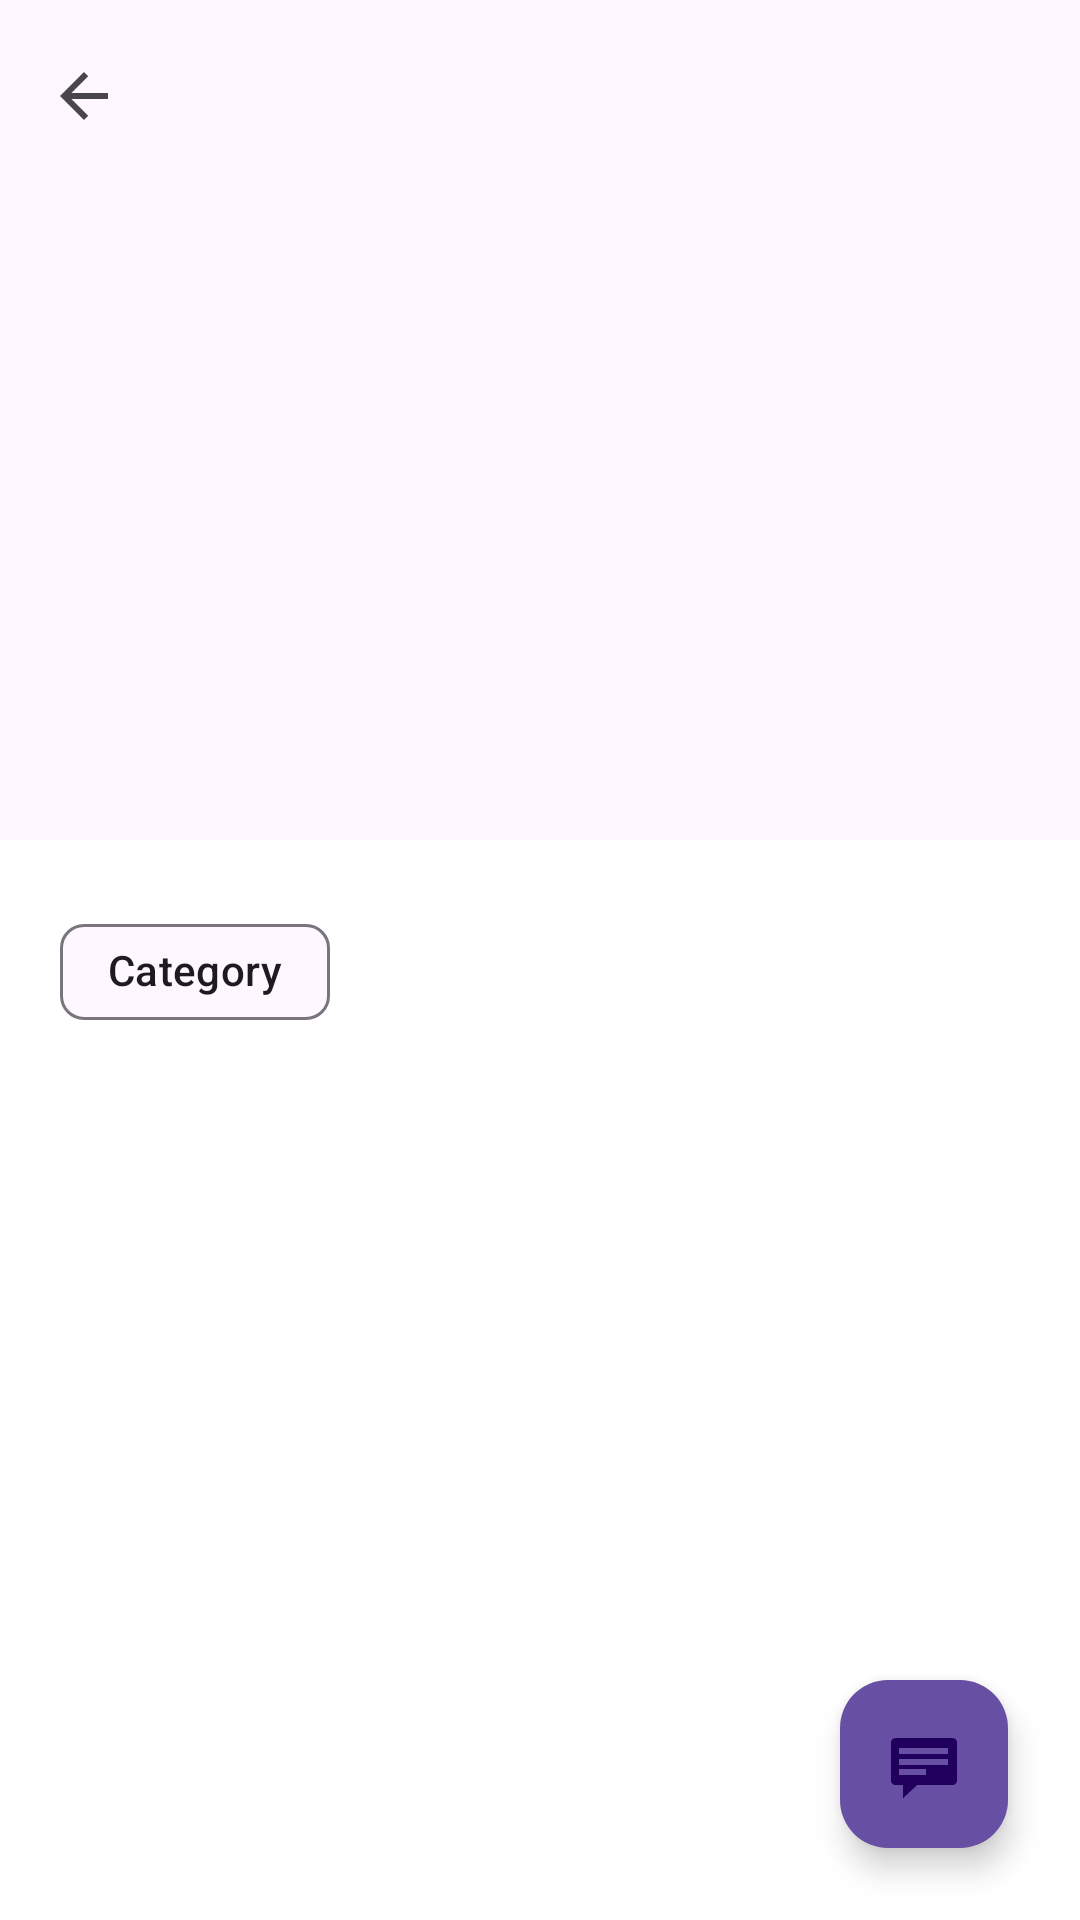

Named icons in this screenshot (1080x1920) and their bounding boxes, (x1, y1, x2, y2):
chat: (840, 1680, 1008, 1848)
